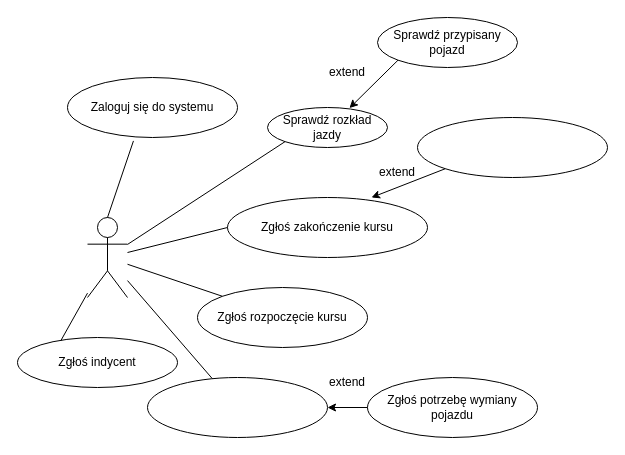
Image size: 625x455. Some labels were removed from this diagram. Here are the shapes that lost their labels. From the top down, the centre of each, then its label:
[512,147]: Zgłoś usterkę pojazdu (niekrytyczną)
[107,257]: Kierowca
[237,407]: Zgłoś usterkę krytyczną
